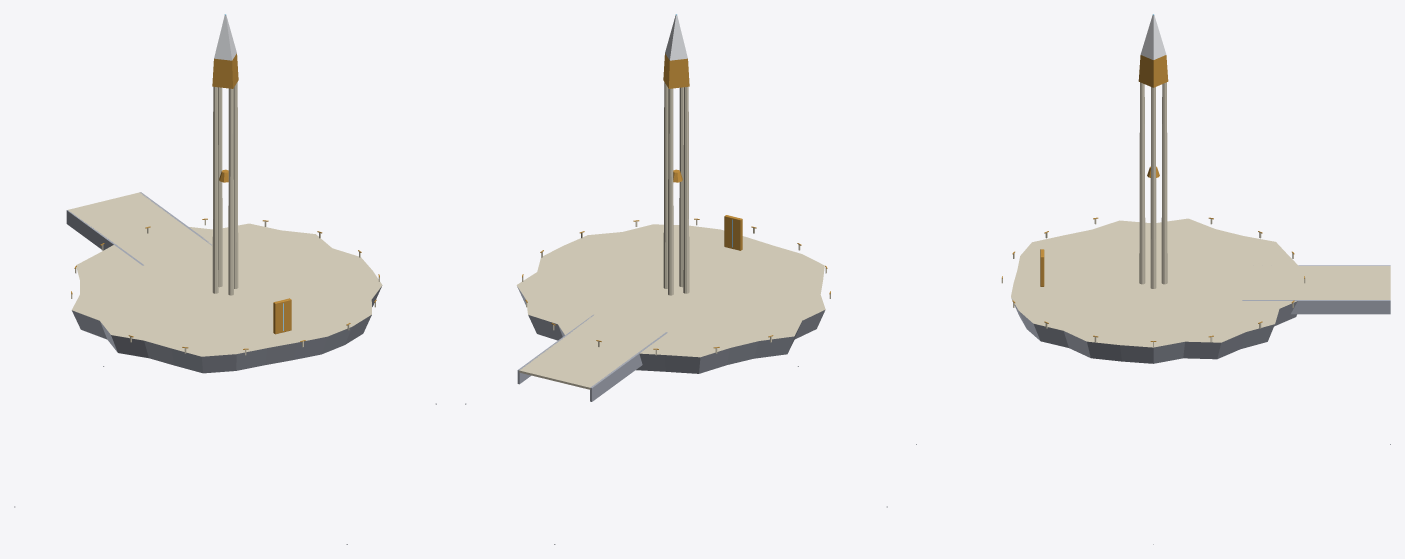
Rendered from chunk_es_cap_sealed_shrine.fbx.
The picture shows the model from 3 angles, left to right: view 1: azimuth 30°, elevation 25°; view 2: azimuth 150°, elevation 25°; view 3: azimuth 270°, elevation 25°; orthographic projection. The views are drawn at different scales.
Visible parts, largest first — view 1: ES_CAP_SEALED_SHRINE; view 2: ES_CAP_SEALED_SHRINE; view 3: ES_CAP_SEALED_SHRINE.
Boxes of the visible parts, <box> form: ES_CAP_SEALED_SHRINE: <box>14,14,436,544</box>; ES_CAP_SEALED_SHRINE: <box>465,14,887,544</box>; ES_CAP_SEALED_SHRINE: <box>916,14,1390,544</box>.
Bounding box in the file's own units: 256 × 256 × 256.
